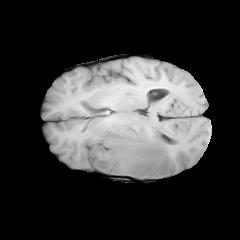glioma: (88, 122, 168, 176)
